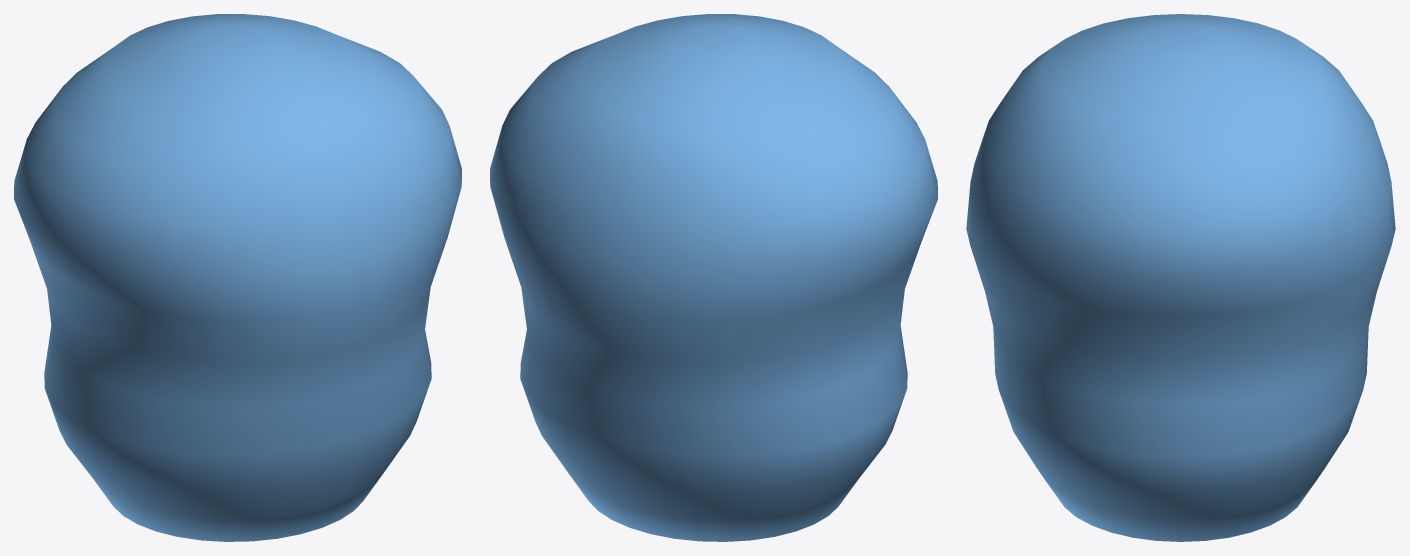
File: body.gltf
3 views of the same model, side by side, from view 1: azimuth 30°, elevation 25°; view 2: azimuth 150°, elevation 25°; view 3: azimuth 270°, elevation 25° (orthographic).
Parts seen in each view (by area): view 1: body; view 2: body; view 3: body.
Part boxes in pixels (x1,y1,x2,y2): body: (14,14,461,541); body: (490,14,937,541); body: (966,14,1395,541).
Size of the model in its own units: 0.3242 by 0.3656 by 0.3031.
